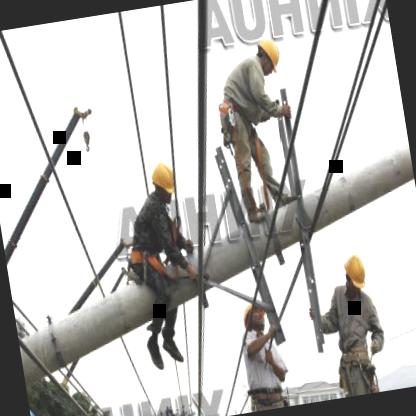helmet: (144, 154, 181, 208), (248, 31, 285, 77), (338, 249, 372, 299), (236, 298, 270, 338), (28, 396, 46, 416)
